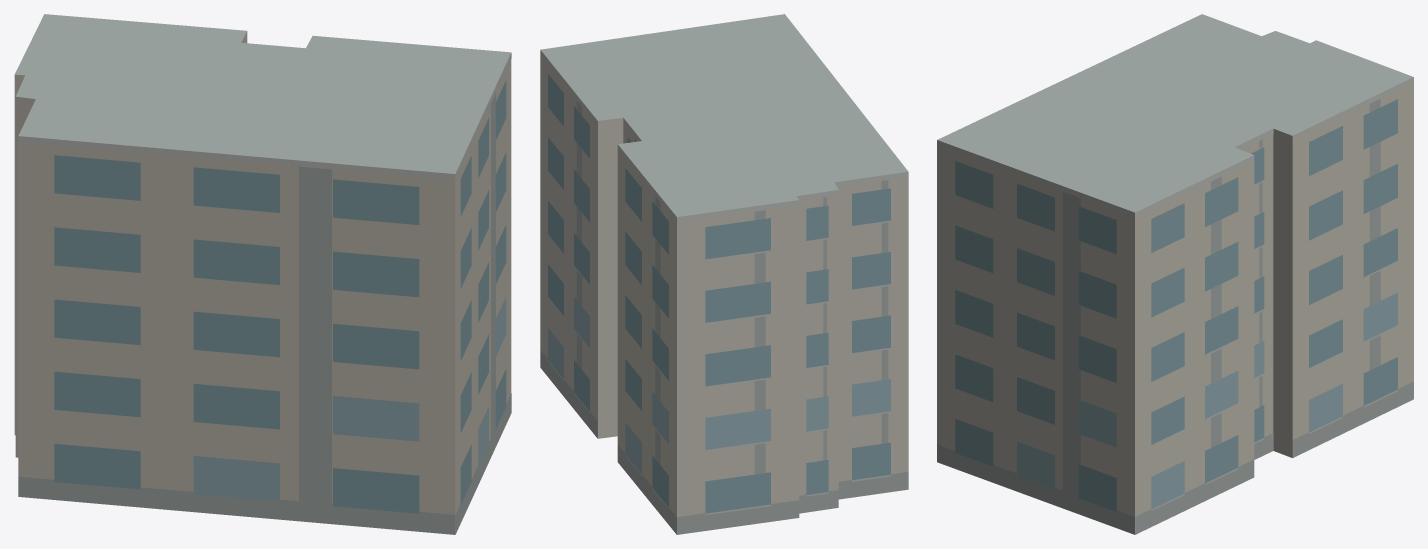
Rendered from survey-upis-32977461.glb.
3 views of the same model, side by side, from view 1: azimuth 30°, elevation 25°; view 2: azimuth 150°, elevation 25°; view 3: azimuth 270°, elevation 25° (orthographic). The views are drawn at different scales.
Parts seen in each view (by area): view 1: survey-upis-32977461.tmp; view 2: survey-upis-32977461.tmp; view 3: survey-upis-32977461.tmp.
Boxes of the visible parts, box(x1,y1,x2,y2) form: survey-upis-32977461.tmp: box(14, 14, 511, 534); survey-upis-32977461.tmp: box(540, 14, 908, 534); survey-upis-32977461.tmp: box(937, 14, 1413, 534).
Bounding box in the file's own units: 18.9 × 14.3 × 19.18.
